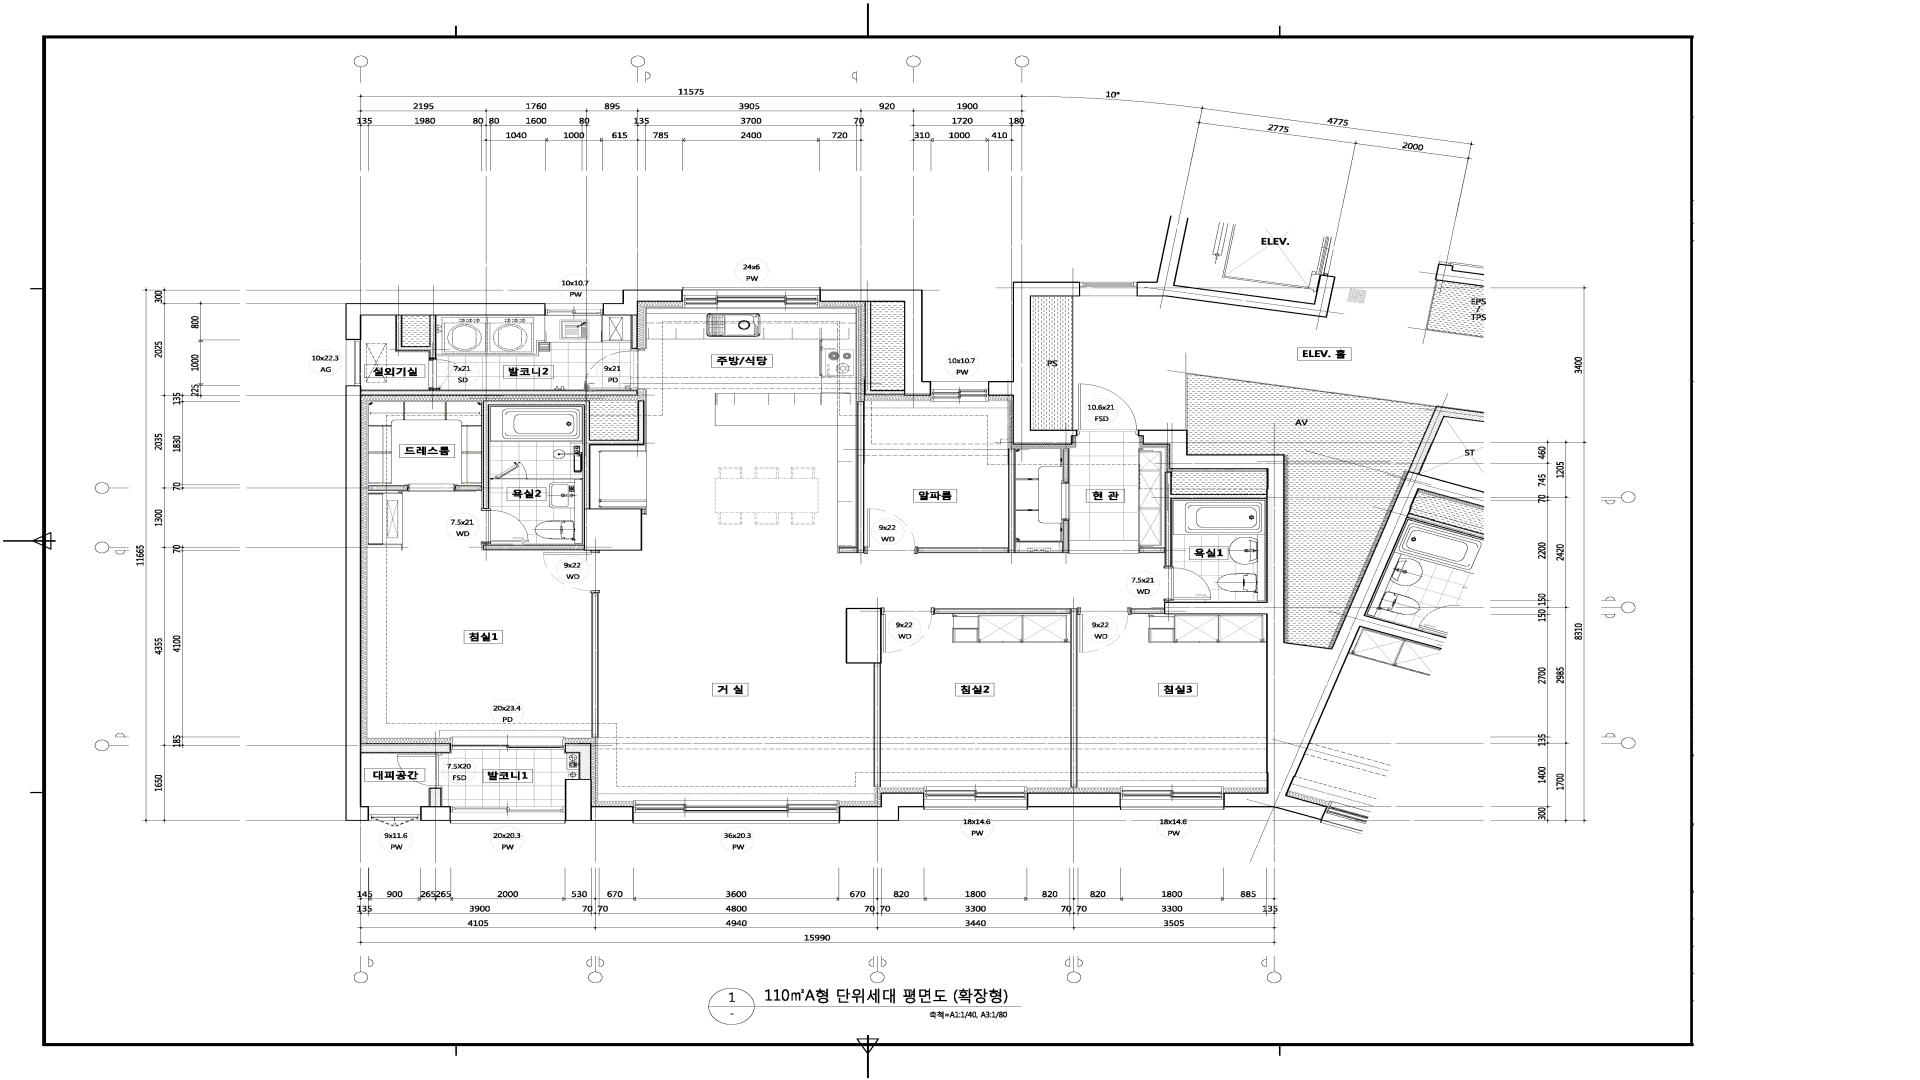door: (1077, 384, 1138, 436), (1077, 608, 1131, 653), (881, 608, 935, 653), (864, 509, 918, 553), (543, 550, 599, 592), (397, 753, 442, 789), (483, 509, 529, 543), (1166, 567, 1211, 600), (429, 359, 456, 390), (491, 462, 527, 480), (409, 484, 455, 492), (1062, 483, 1069, 520)
wall: (1138, 430, 1485, 807), (1185, 373, 1484, 473), (455, 401, 644, 551), (935, 609, 1077, 787), (1137, 215, 1336, 318), (918, 448, 1068, 553), (988, 281, 1080, 444), (1139, 472, 1267, 567), (820, 290, 931, 396), (345, 385, 369, 820), (345, 303, 546, 340), (845, 608, 882, 787), (865, 302, 905, 396), (1425, 280, 1484, 338), (564, 779, 633, 820), (840, 793, 923, 820), (603, 290, 683, 315), (396, 315, 436, 359), (361, 390, 638, 396), (1027, 793, 1120, 807), (857, 401, 865, 553), (1435, 264, 1485, 286), (564, 744, 592, 779), (592, 592, 599, 737), (361, 744, 451, 753), (421, 806, 450, 820), (632, 315, 638, 349), (1063, 448, 1069, 483), (430, 787, 442, 806), (368, 485, 409, 491), (1072, 297, 1073, 430), (1131, 609, 1164, 615), (1166, 600, 1171, 603)
window: (633, 800, 840, 823), (683, 287, 820, 307), (923, 787, 1029, 810), (1120, 787, 1224, 810), (450, 806, 566, 823), (451, 737, 564, 749), (931, 381, 988, 402), (369, 806, 421, 827), (1080, 282, 1137, 297), (345, 340, 361, 385), (546, 303, 603, 315)
